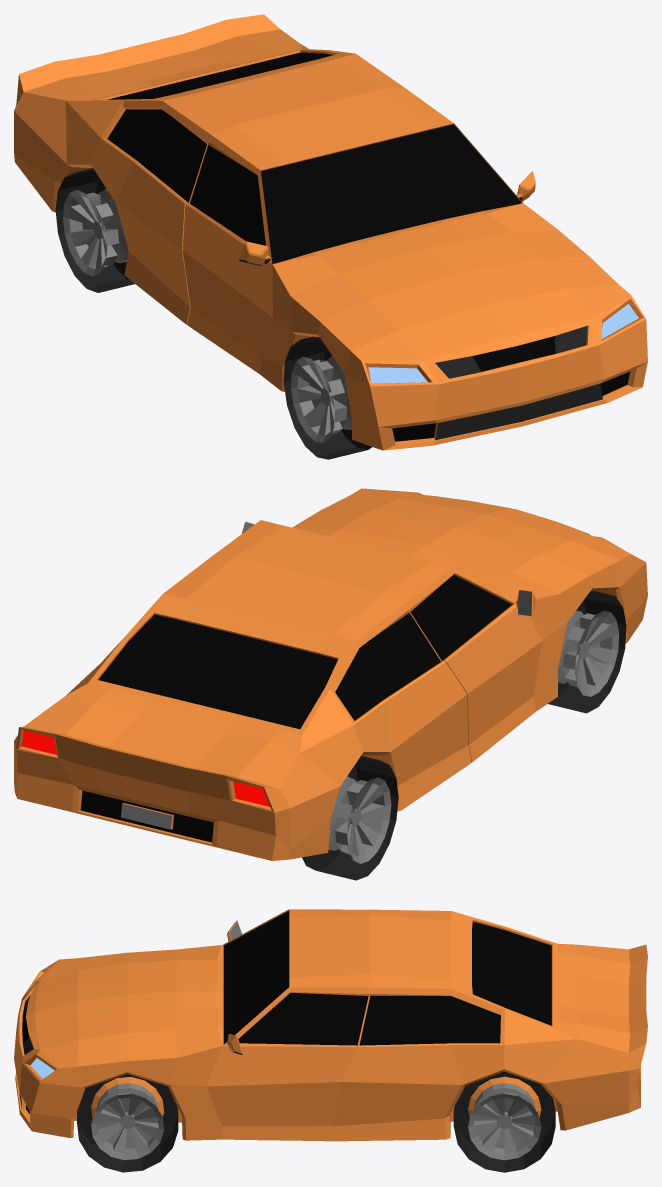
Rendered from car1.glb.
3 renders of one model, top to bottom at view 1: azimuth 30°, elevation 25°; view 2: azimuth 150°, elevation 25°; view 3: azimuth 270°, elevation 25°, orthographic. The views are drawn at different scales.
Parts seen in each view (by area): view 1: Cube; view 2: Cube; view 3: Cube.
Part boxes in pixels (x1,y1,x2,y2): Cube: (14,14,647,459); Cube: (14,488,647,880); Cube: (14,909,647,1172).
Bounding box in the file's own units: 1.63 × 1.1 × 3.68.
